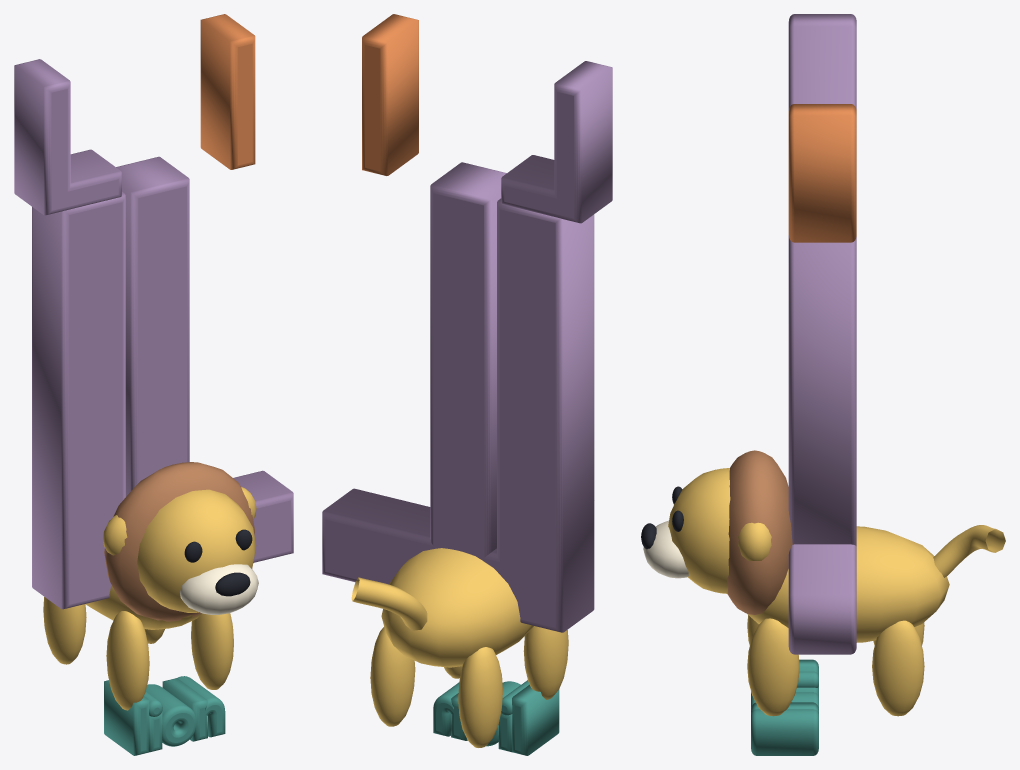
The model's file is letter-l.glb.
3 views of the same model, side by side, from view 1: azimuth 30°, elevation 25°; view 2: azimuth 150°, elevation 25°; view 3: azimuth 270°, elevation 25° (orthographic). The views are drawn at different scales.
Parts seen in each view (by area): view 1: letter solid, letter solid.001, uppercase solid, animal head, lowercase solid, mane, example word, little paw, little paw.002, muzzle, little paw.001, round animal body (+2 smaller); view 2: letter solid, letter solid.001, round animal body, uppercase solid, lowercase solid, example word, little paw.001, little paw.003, little paw, tail; view 3: letter solid.001, lowercase solid, round animal body, mane, letter solid, uppercase solid, animal head, example word, little paw.003, little paw.002, tail, muzzle (+1 smaller).
Boxes of the visible parts, box(x1,y1,x2,y2) form: letter solid: box(32, 191, 293, 609); letter solid.001: box(116, 156, 189, 496); uppercase solid: box(14, 59, 121, 215); animal head: box(137, 489, 256, 612); lowercase solid: box(200, 14, 255, 169); mane: box(104, 462, 254, 621); example word: box(104, 676, 225, 755); little paw: box(106, 611, 149, 710); little paw.002: box(191, 613, 233, 689); muzzle: box(180, 564, 258, 614); little paw.001: box(43, 597, 86, 664); round animal body: box(86, 584, 202, 629); letter solid: box(322, 198, 594, 632); letter solid.001: box(430, 162, 506, 557); round animal body: box(381, 548, 533, 667); uppercase solid: box(501, 61, 612, 223); lowercase solid: box(362, 14, 418, 175); example word: box(433, 680, 559, 755); little paw.001: box(458, 647, 502, 747); little paw.003: box(370, 627, 415, 726); little paw: box(523, 626, 568, 699); tail: box(351, 577, 427, 630); letter solid.001: box(788, 235, 856, 546); lowercase solid: box(788, 104, 856, 242); round animal body: box(747, 526, 949, 642); mane: box(727, 450, 792, 614); letter solid: box(788, 544, 856, 654); uppercase solid: box(788, 14, 856, 110); animal head: box(668, 468, 730, 593); example word: box(751, 659, 818, 755); little paw.003: box(872, 620, 924, 716); little paw.002: box(747, 618, 799, 716); tail: box(933, 525, 1005, 577); muzzle: box(643, 520, 688, 578).
Size of the model in its own units: 0.7533 by 1.94 by 0.9667.
